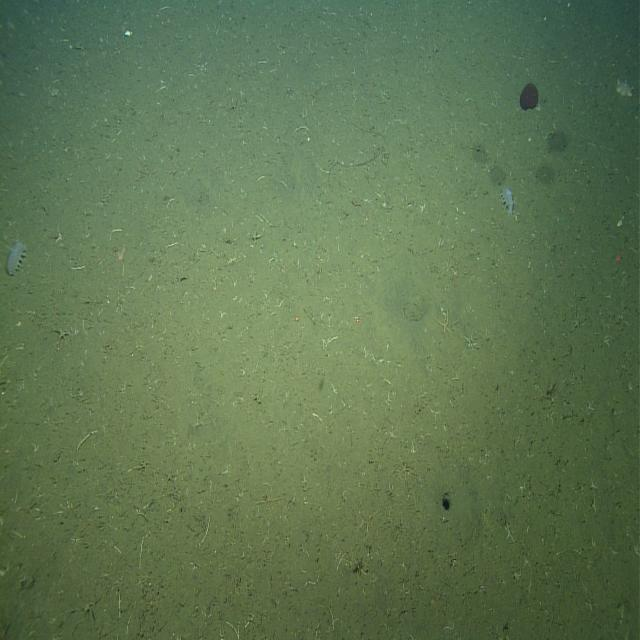Brittle Star: (430, 304, 458, 342), (259, 481, 281, 513), (50, 320, 73, 350), (358, 507, 378, 538), (461, 327, 482, 356), (502, 518, 517, 546), (52, 226, 67, 248)
Not Brittle Star: (3, 232, 29, 280), (499, 181, 517, 219), (518, 81, 540, 112), (615, 76, 634, 100)
